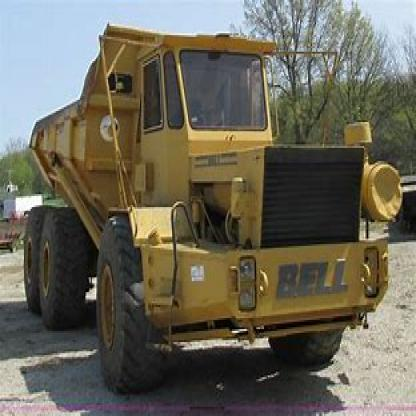dump_truck: (13, 19, 391, 386)
